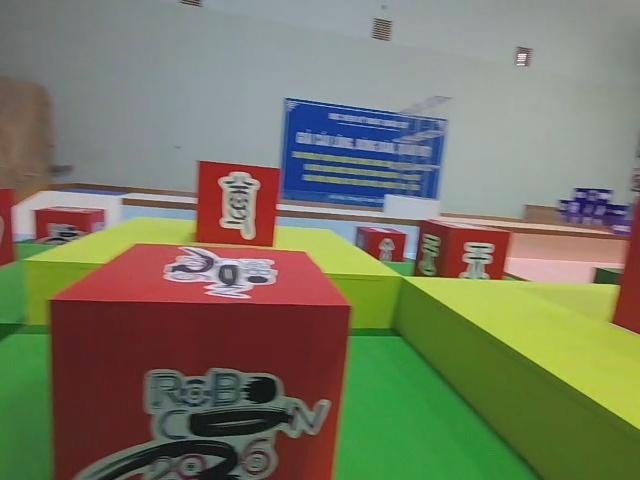R1: (51, 242, 352, 480), (32, 202, 107, 250)
R2 Fake: (195, 157, 283, 253)
R2 Real: (413, 216, 513, 282), (352, 222, 409, 270)
